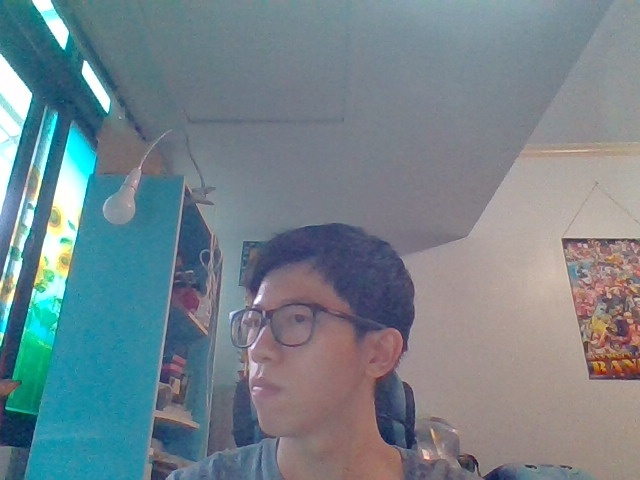NoMask: (244, 329, 405, 440)
